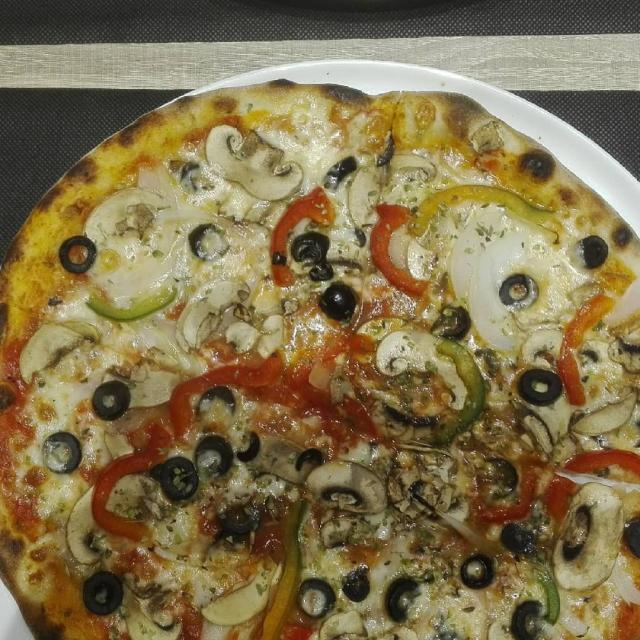black_olives: (293, 571, 342, 617), (218, 489, 268, 534), (82, 569, 124, 621), (486, 454, 530, 503), (57, 232, 98, 282), (518, 361, 562, 407), (160, 452, 198, 502), (190, 222, 232, 267), (384, 572, 423, 620), (203, 383, 241, 431), (295, 231, 332, 277), (46, 426, 80, 475), (322, 278, 356, 324), (459, 546, 496, 588), (93, 376, 132, 415), (342, 565, 377, 604), (327, 153, 362, 190), (513, 597, 543, 640), (197, 432, 227, 474), (500, 272, 529, 306), (503, 520, 531, 554), (579, 236, 604, 272)
mushrooms: (553, 478, 623, 597), (371, 324, 470, 406), (71, 476, 157, 570), (205, 123, 300, 200), (348, 141, 438, 219), (390, 439, 471, 512), (75, 184, 164, 243), (523, 330, 640, 374), (14, 313, 91, 374), (177, 278, 241, 348), (312, 459, 391, 515), (250, 438, 323, 479), (331, 236, 381, 270), (323, 604, 368, 638)
peppers: (98, 418, 171, 536), (172, 350, 282, 424), (262, 184, 330, 293), (412, 179, 554, 229), (546, 441, 638, 516), (427, 338, 493, 439), (545, 442, 638, 503), (373, 199, 429, 291), (272, 504, 309, 634), (566, 286, 603, 405), (90, 286, 182, 320), (530, 562, 567, 622)
pizza: (0, 77, 640, 640)
